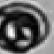correct: (0, 1, 50, 54)
